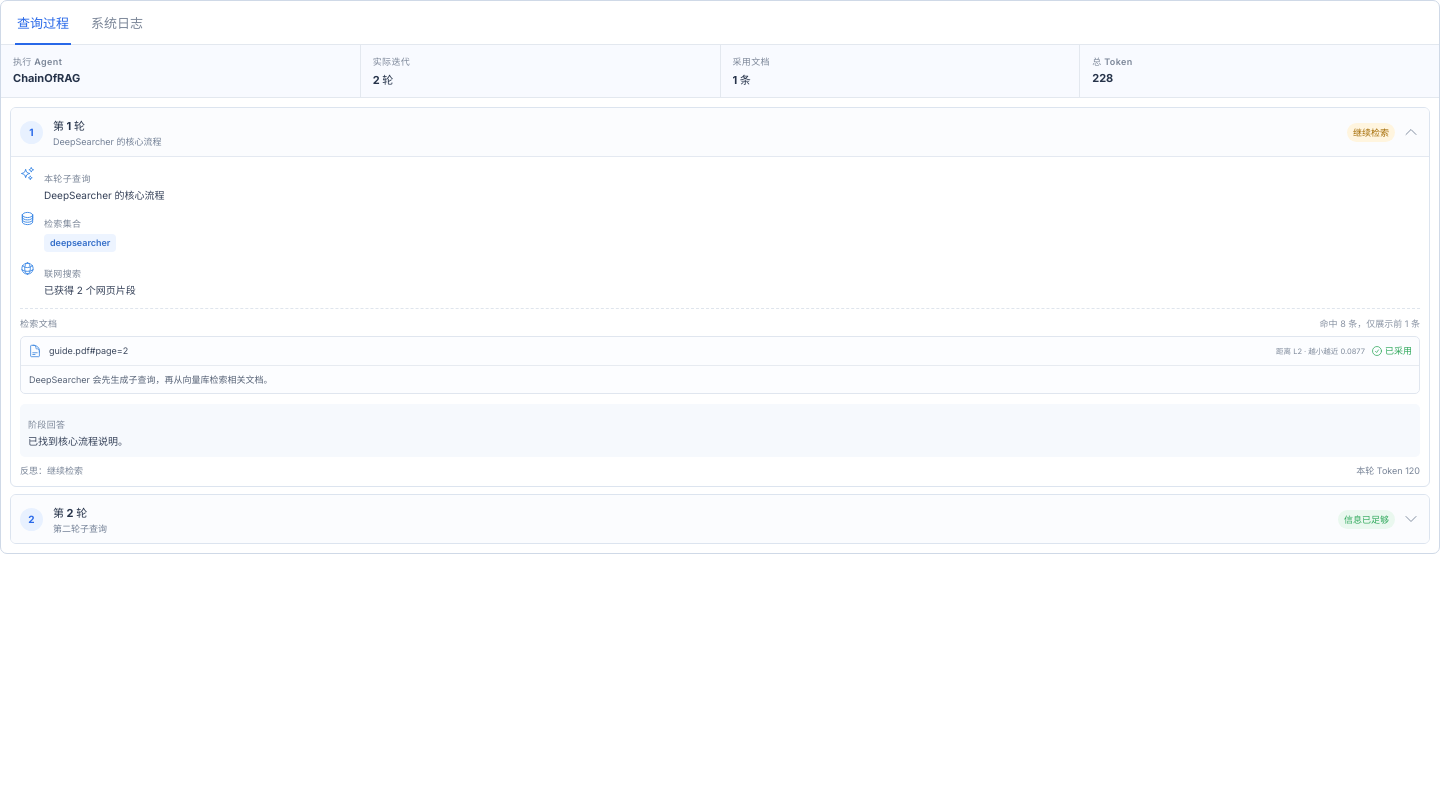
Test case: 用中文分轮展示 Agent、检索文档与反思结果
Expected: the text "ChainOfRAG" is shown, [13,71,80,85]
Expected: the text "DeepSearcher 的核心流程" is shown 2 times, [53,136,162,146]; [44,189,165,201]
Click the button "2 第 2 轮 第二轮子查询 信息已足够" at (80, 528), box [11,495,1429,543]
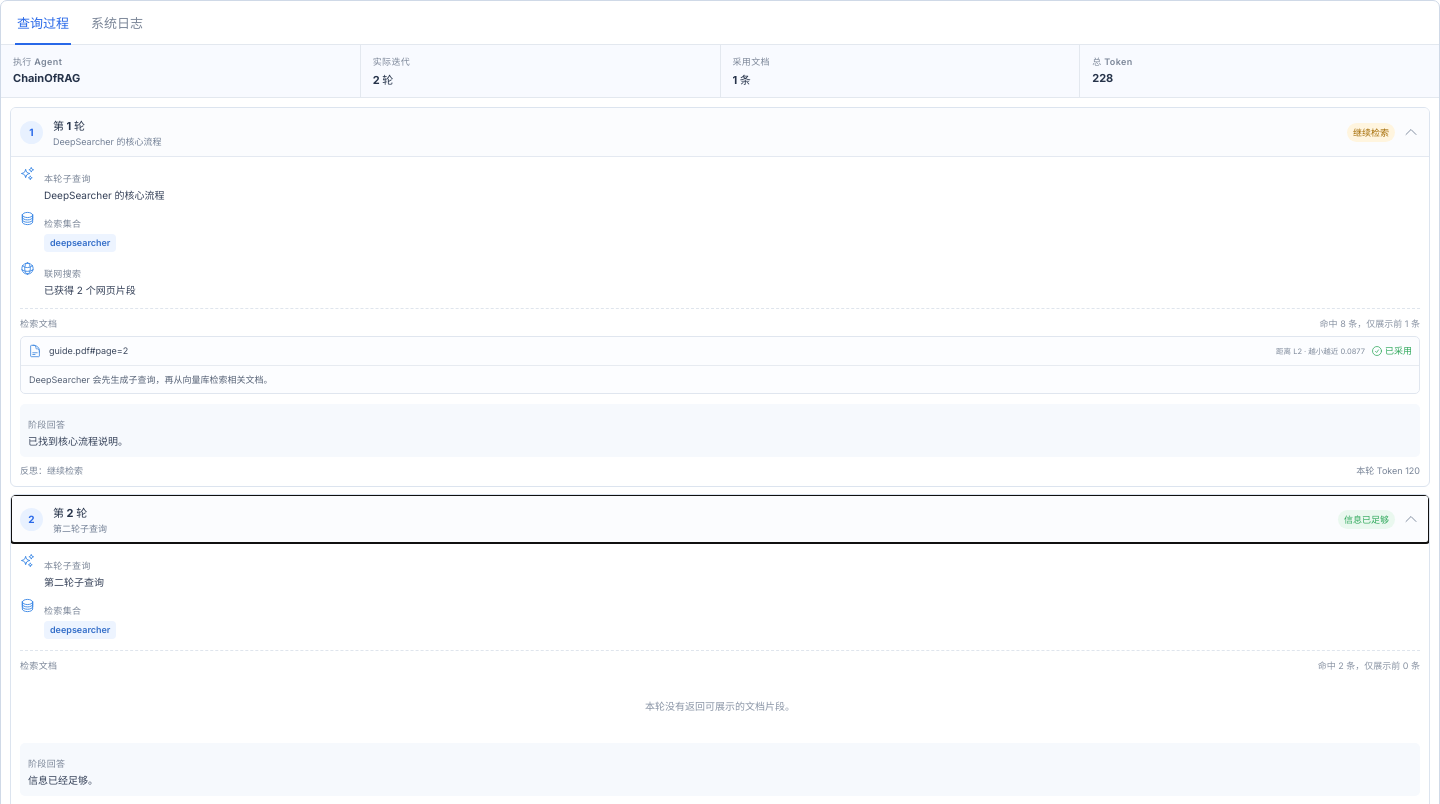
Expected: the text "信息已足够" is shown, [1338,510,1395,529]
Expected: the text "第二轮子查询" is shown 2 times, [53,523,107,534]; [44,576,104,588]
